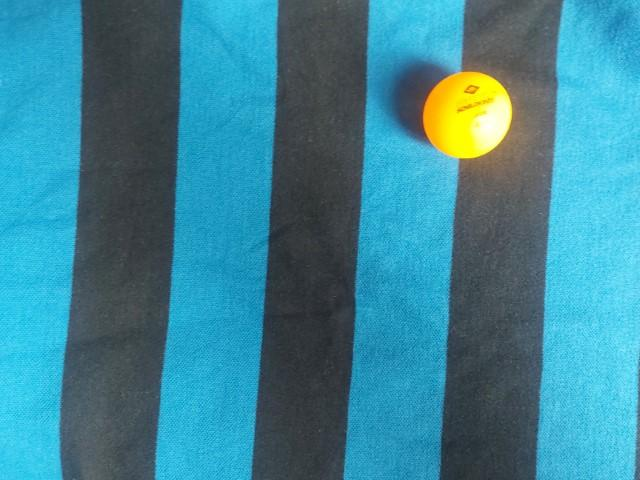oball: (417, 65, 519, 163)
